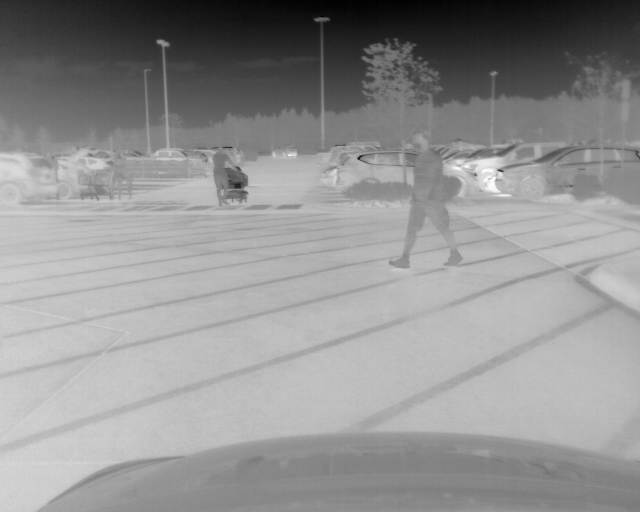car: (493, 144, 640, 199), (335, 149, 476, 199), (463, 140, 573, 195), (1, 151, 60, 207), (57, 160, 93, 198), (152, 146, 207, 163), (271, 144, 297, 158)
people: (387, 129, 465, 270), (211, 146, 238, 204), (107, 153, 126, 200), (125, 154, 136, 198)
